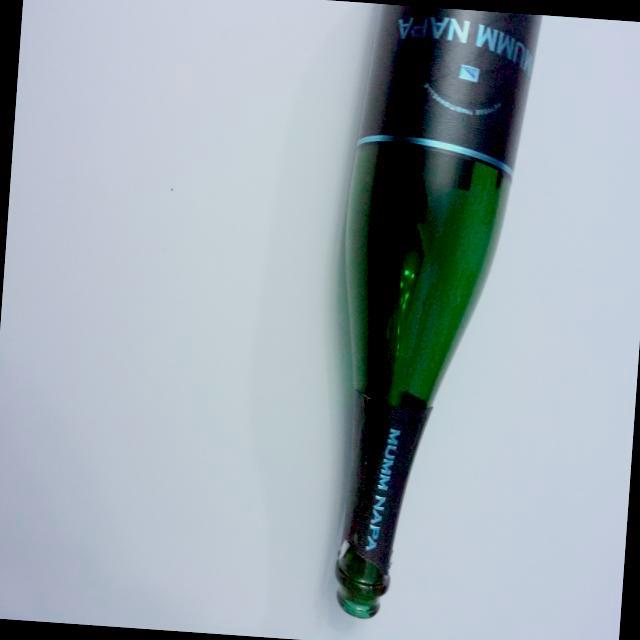glass: (307, 1, 544, 638)
